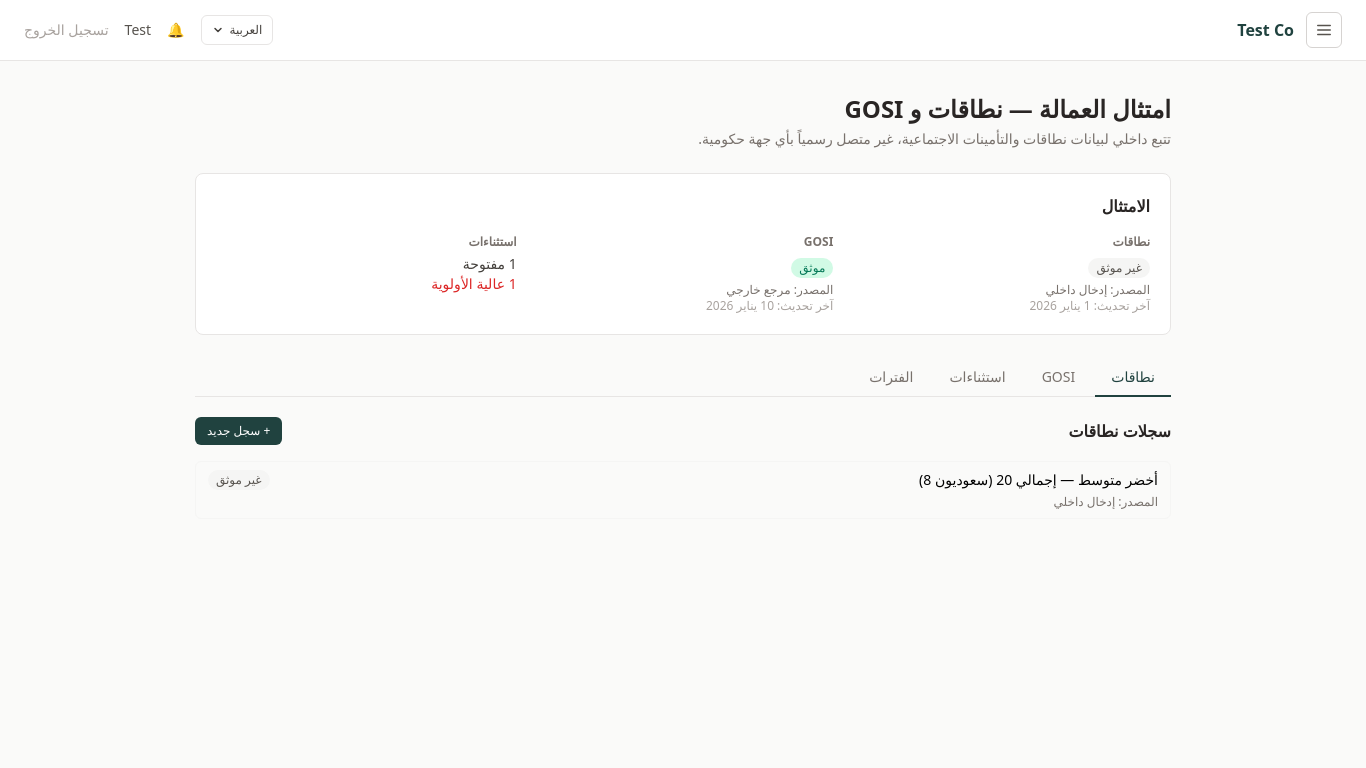
<LaborCompliance/> › the periods tab shows the create-period form fields in Arabic
Check: the text "أخضر متوسط — إجمالي 20 (سعوديون 8)" is shown, box [919, 470, 1158, 490]
Click the tab "الفترات" at [891, 378], box [853, 359, 930, 397]
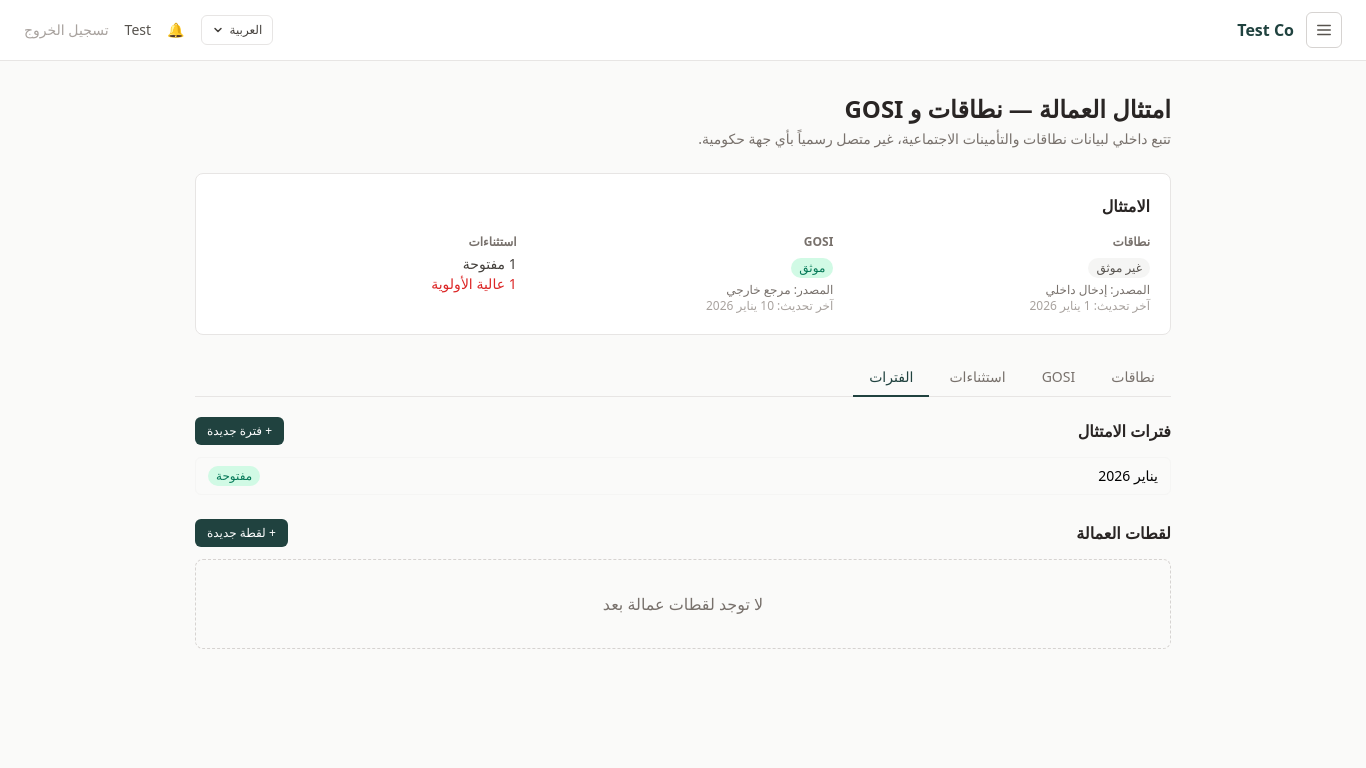
Check: the text "يناير 2026" is shown, box [1098, 466, 1158, 486]
Click the button "+ فترة جديدة" at [240, 431], box [195, 417, 284, 445]
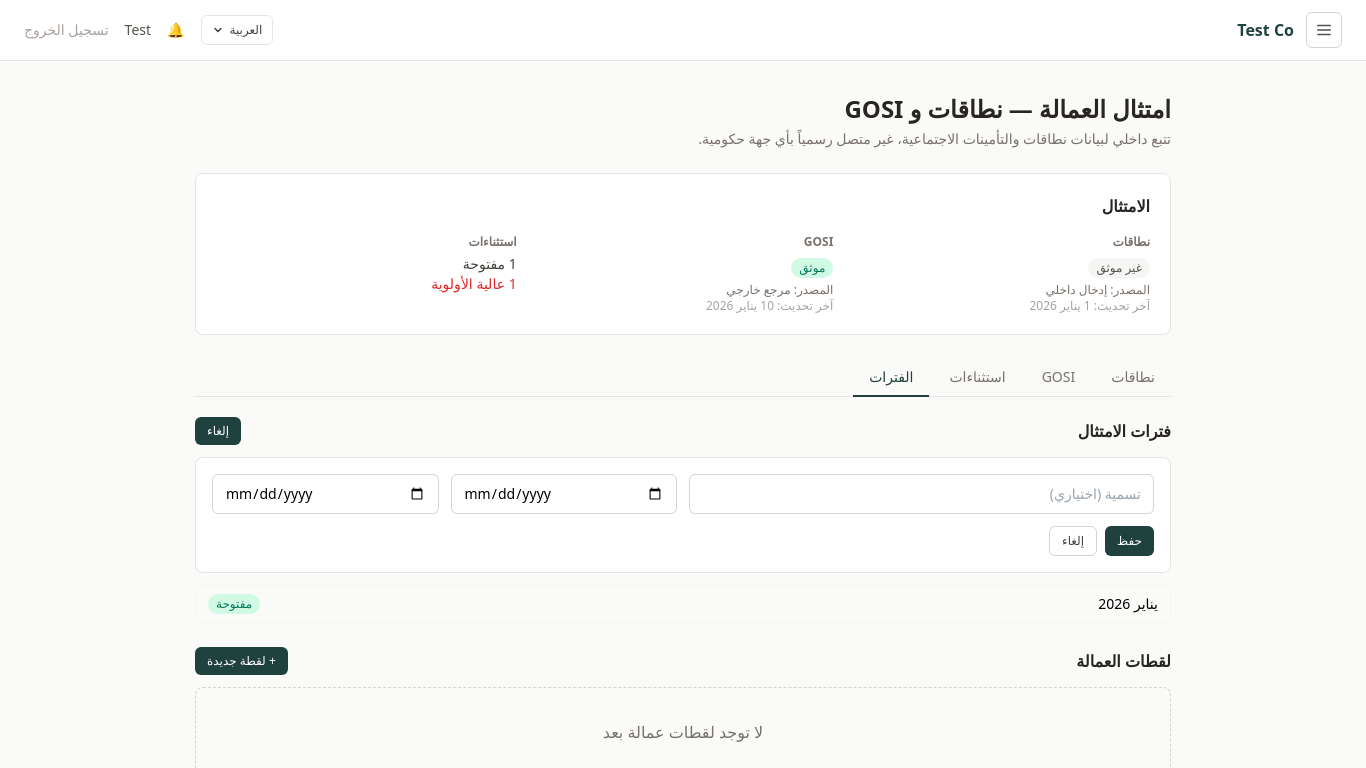
Check: the field with placeholder "تسمية (اختياري)" is shown, box [689, 474, 1154, 514]
